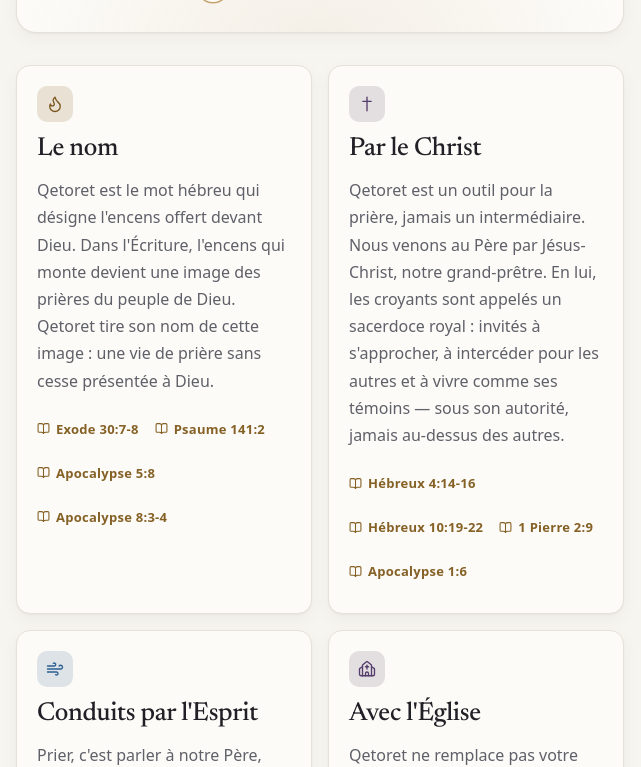
Test: AboutTab — Scripture references › keeps one passage open per section
(page scrolled)
Step 1. Click the button "Psaume 141:2" → (210, 429), box [155,407,265,451]
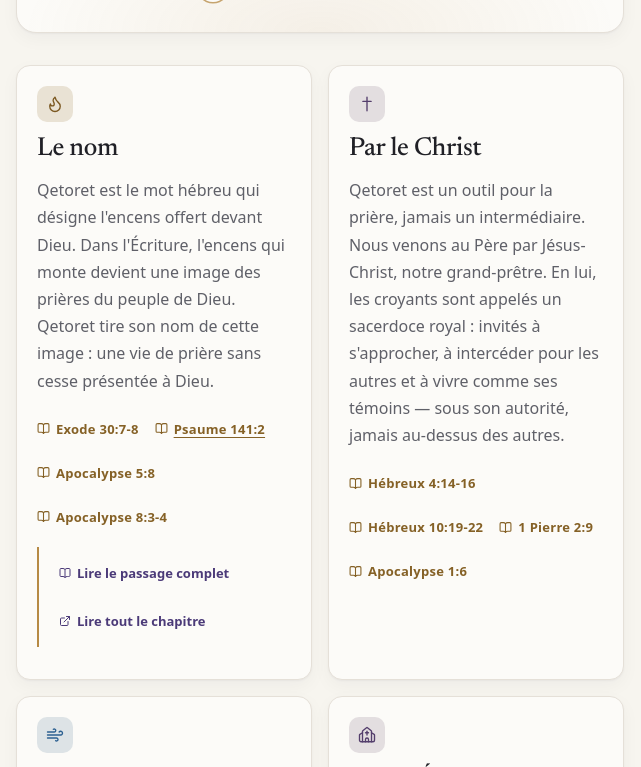
Step 2. Click the button "Apocalypse 5:8" → (96, 473), box [37,451,155,495]
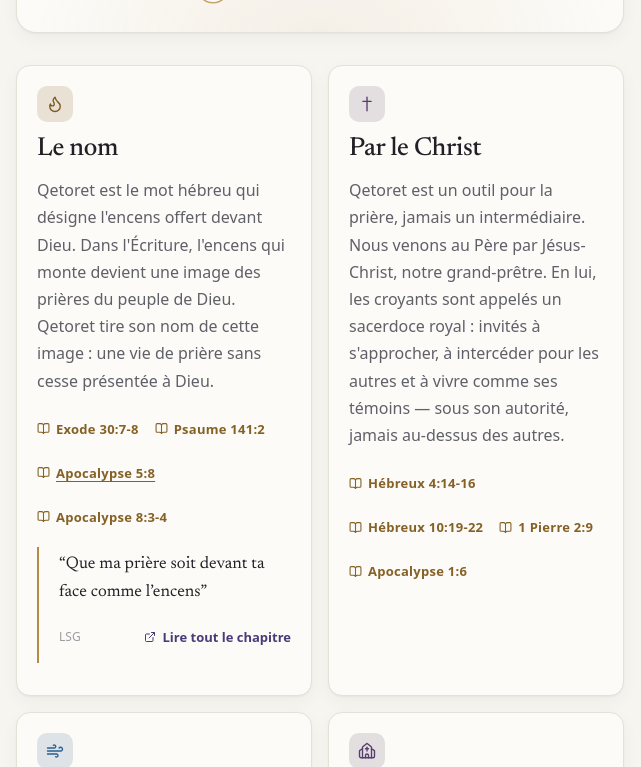
Now the button "Psaume 141:2" is collapsed, box [155,407,265,451]
Now the button "Apocalypse 5:8" is expanded, box [37,451,155,495]
